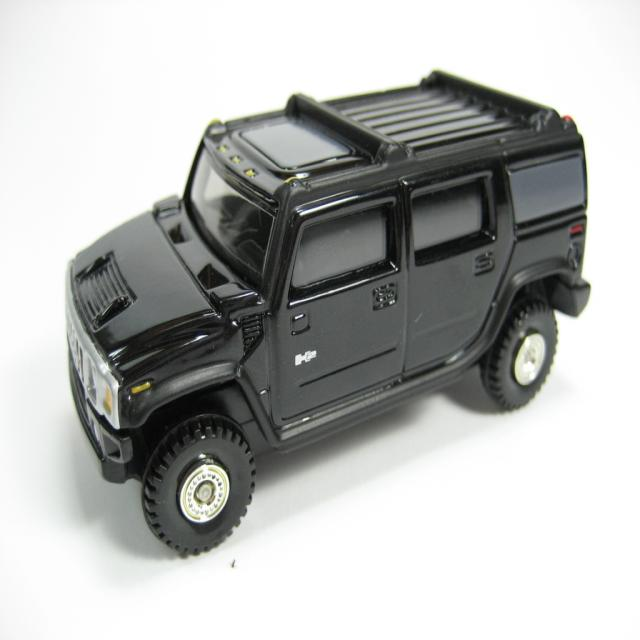car: (87, 95, 577, 486)
